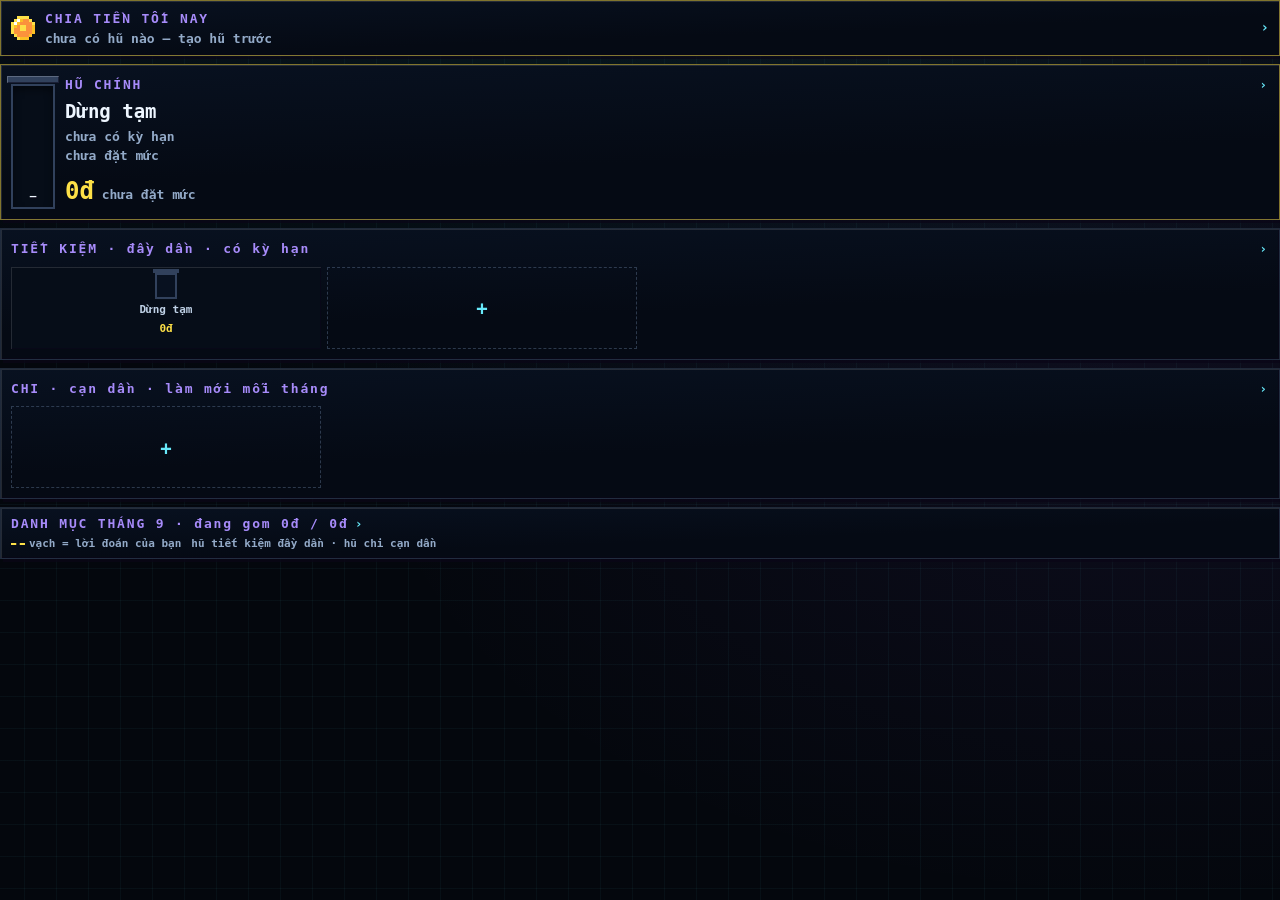
Test case: §I — ⭐⭐⭐ "ở trên là các hũ, bấm vào 1 hũ thì hiện ra số tiền" › ⭐ chưa hũ nào ĐANG CHẠY ⇒ không ô hũ, không khay (không có chỗ để chia) — kệ chỉ nói chưa có hũ
Click the button "CHIA TIỀN TỐI NAY chưa có hũ nào — tạo hũ trước ›".
click(127, 18)  # box x1=0 y1=0 x2=1279 y2=56
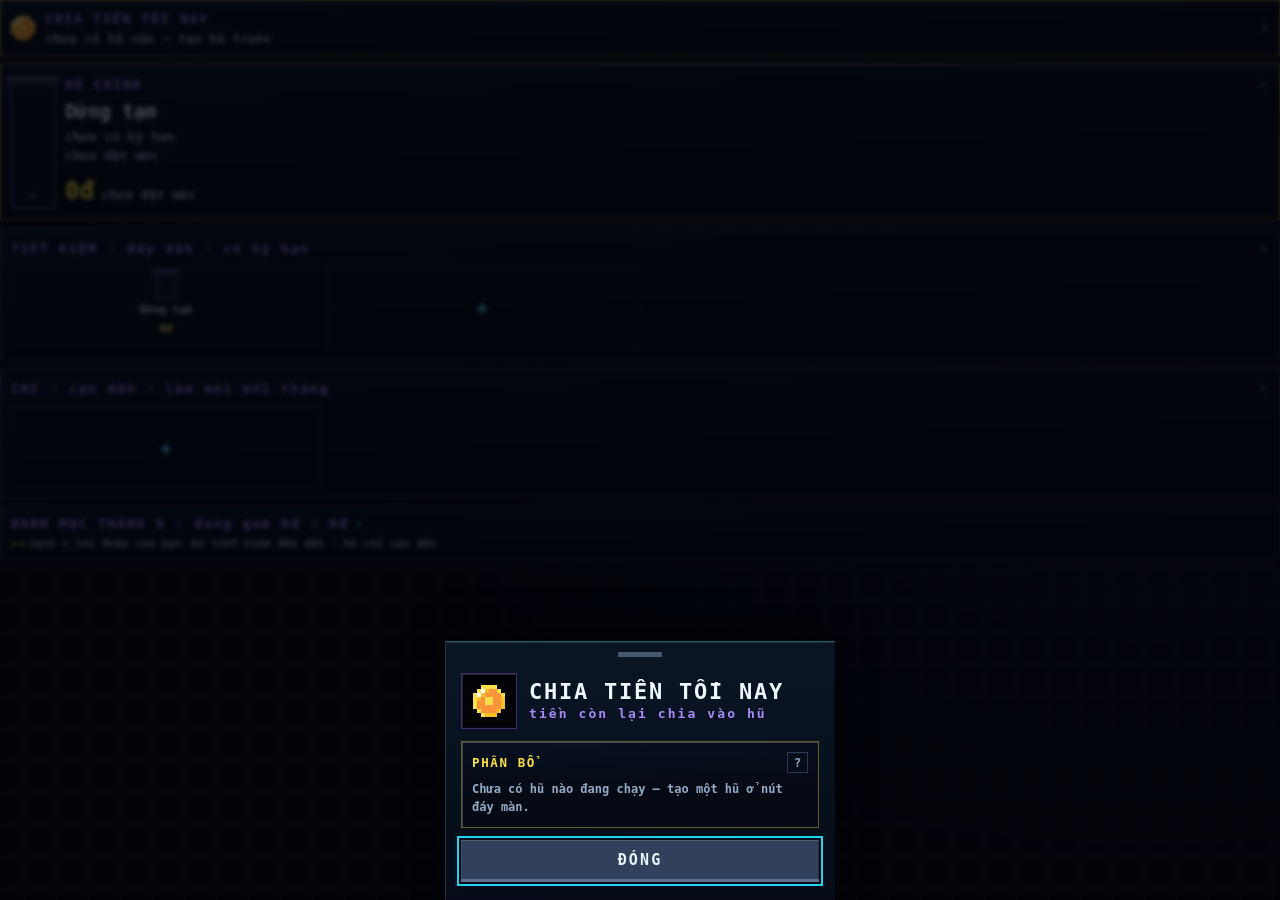
Now the element with test id "ke-phan-bo" shows "Chưa có hũ nào đang chạy — tạo một hũ ở nút đáy màn.", box x1=472 y1=782 x2=783 y2=814
